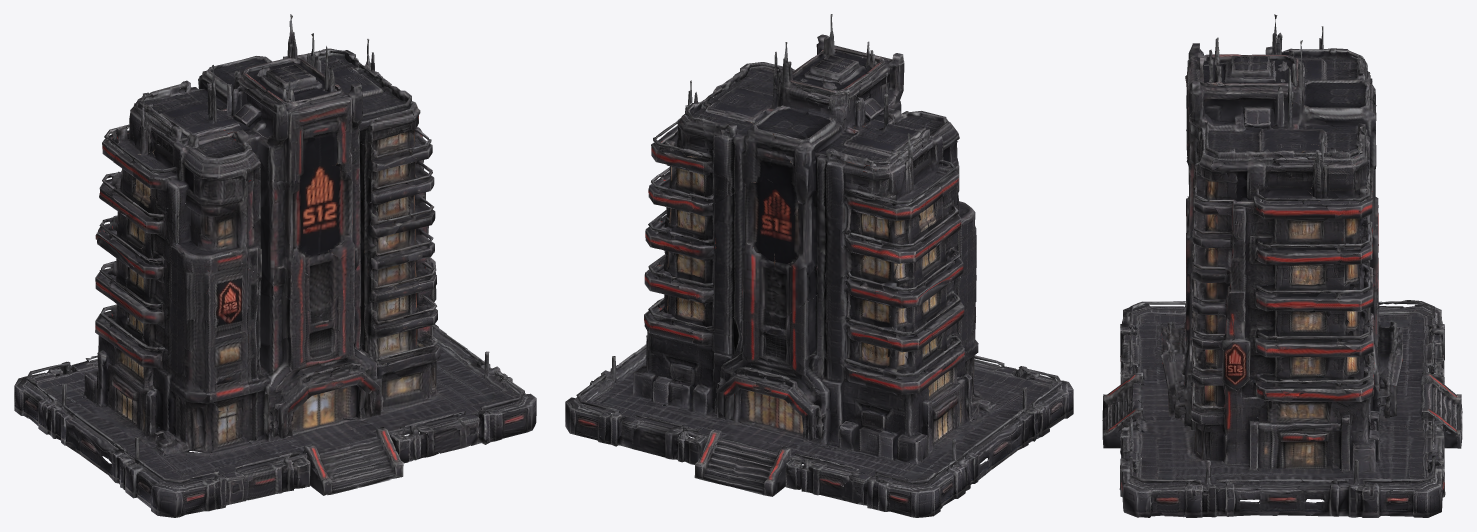
The model's file is neonCitadel_LOD0.glb.
The picture shows the model from 3 angles, left to right: view 1: azimuth 30°, elevation 25°; view 2: azimuth 150°, elevation 25°; view 3: azimuth 270°, elevation 25°; orthographic projection. The views are drawn at different scales.
Parts seen in each view (by area): view 1: Mesh_0.007; view 2: Mesh_0.007; view 3: Mesh_0.007.
Boxes of the visible parts, x1=… form: Mesh_0.007: x1=14, y1=14, x2=536, y2=517; Mesh_0.007: x1=565, y1=14, x2=1073, y2=517; Mesh_0.007: x1=1102, y1=14, x2=1462, y2=517.
Size of the model in its own units: 1.9 by 1.89 by 1.54.
1 material, 1 textured.
